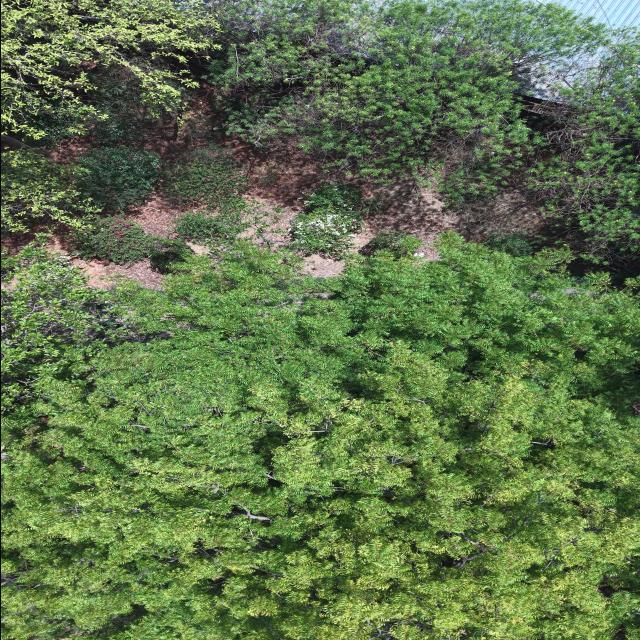DRY_AREA: (134, 85, 544, 259), (231, 138, 544, 259), (233, 142, 544, 259), (352, 182, 542, 259), (365, 181, 543, 258), (352, 184, 459, 259), (227, 137, 339, 205), (365, 181, 457, 259), (128, 84, 212, 161), (130, 85, 210, 161), (133, 93, 209, 160), (70, 257, 162, 288), (71, 258, 163, 288), (124, 192, 184, 238), (301, 254, 344, 276)
VEGETATION_TREE: (1, 0, 639, 639), (2, 235, 639, 639), (2, 0, 639, 261), (209, 0, 639, 260), (210, 1, 565, 188), (1, 0, 217, 230), (1, 0, 216, 138), (524, 33, 639, 262), (1, 145, 186, 267), (1, 246, 127, 410), (1, 149, 100, 231), (88, 65, 180, 144), (162, 144, 246, 212), (291, 182, 368, 256), (75, 146, 160, 209), (71, 215, 166, 263), (175, 209, 249, 244), (362, 231, 422, 257), (484, 233, 534, 255)
